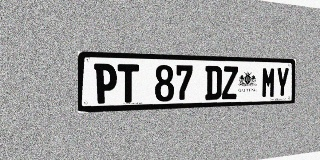7: (174, 65, 193, 101)
8: (155, 65, 174, 102)
D: (205, 66, 222, 100)
M: (261, 67, 276, 98)
P: (94, 63, 117, 104)
T: (118, 64, 139, 103)
Y: (275, 67, 289, 98)
Z: (222, 66, 238, 99)
